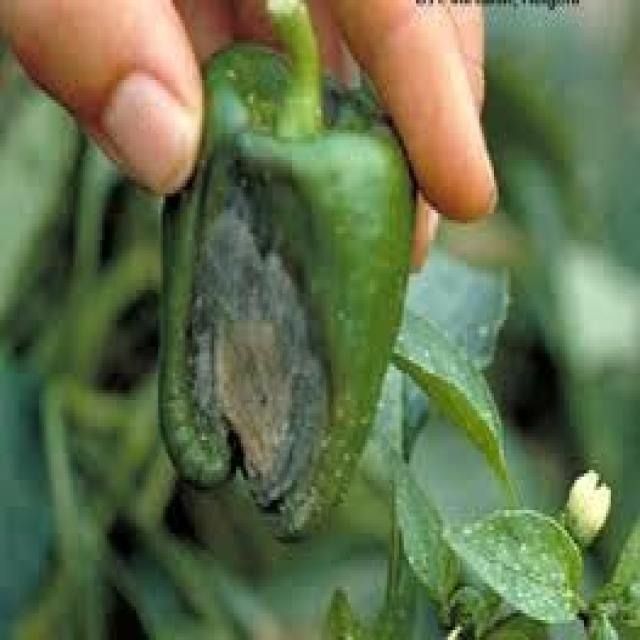Wet Waste: (150, 24, 420, 557)
